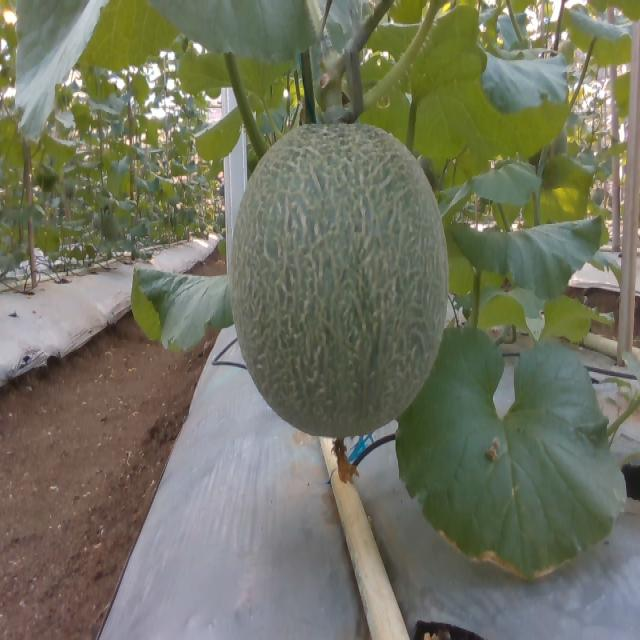melon: (233, 123, 447, 438)
